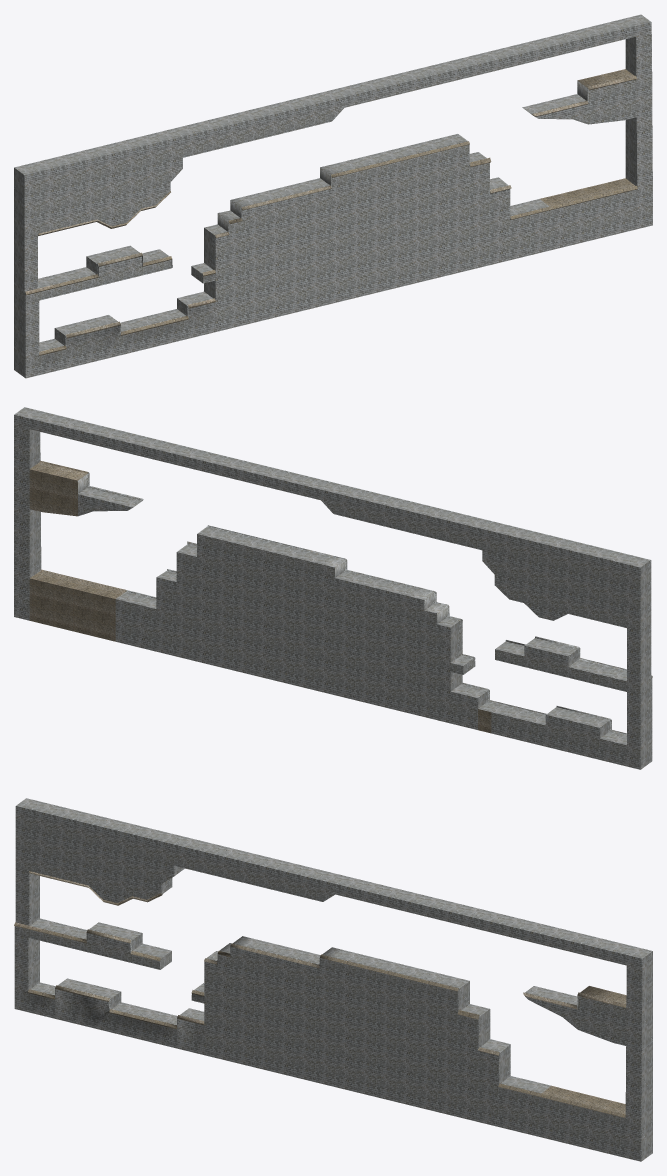
Rendered from Castle_level_3d.FBX.
3 renders of one model, top to bottom at view 1: azimuth 30°, elevation 25°; view 2: azimuth 150°, elevation 25°; view 3: azimuth 330°, elevation 25°, orthographic.
Visible parts, largest first — view 1: Castle_level_3d; view 2: Castle_level_3d; view 3: Castle_level_3d.
Part boxes in pixels (left/top/right/bottom): Castle_level_3d: left=14, top=14, right=652, bottom=378; Castle_level_3d: left=14, top=407, right=652, bottom=769; Castle_level_3d: left=14, top=798, right=652, bottom=1161.
Bounding box in the file's own units: 308 × 95 × 10.59.
